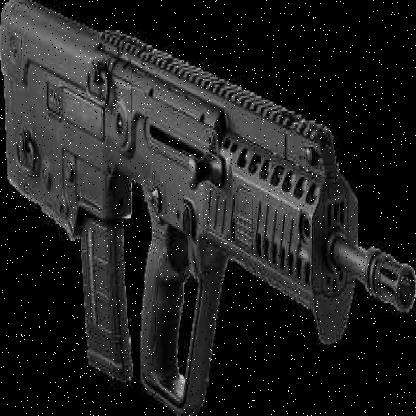rifle: (2, 0, 416, 411)
